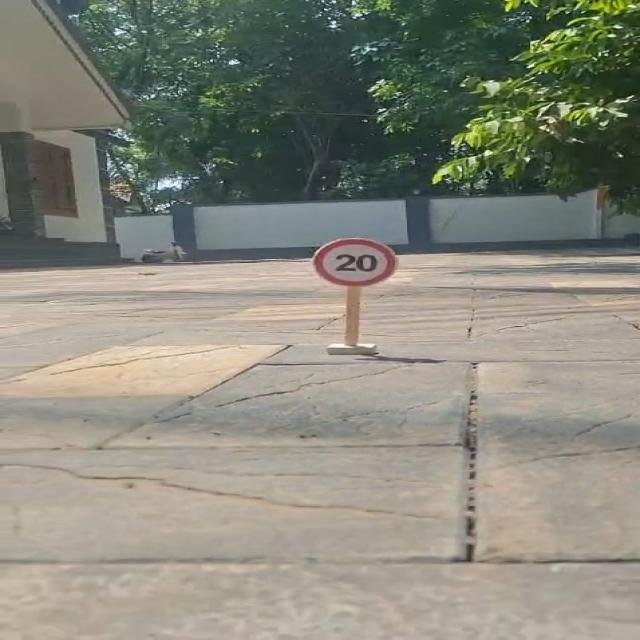Speed20: (302, 232, 404, 292)
